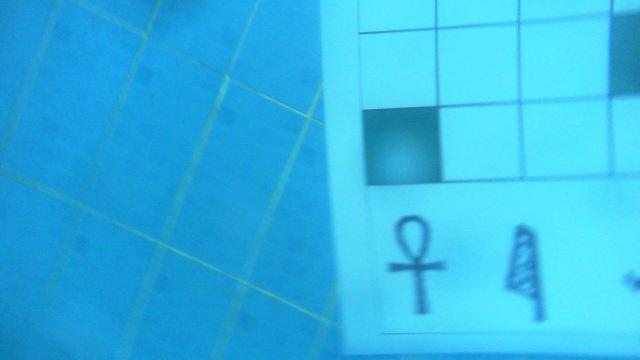Ankh: (384, 214, 448, 322)
Reed: (501, 223, 549, 325)
